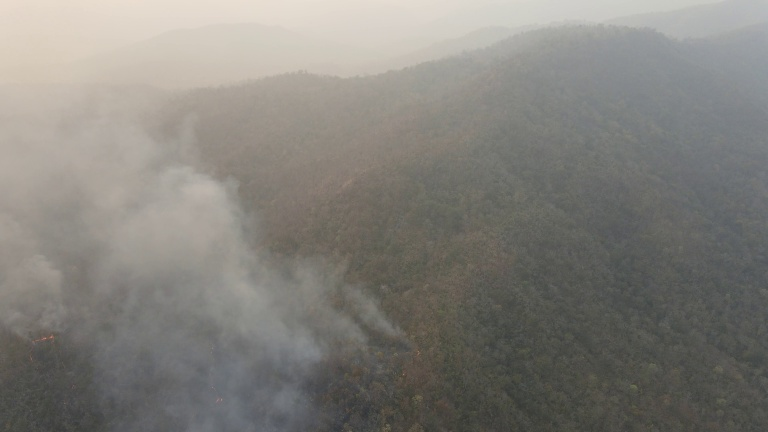fire: (23, 325, 57, 367), (398, 336, 421, 393)
smoke: (1, 62, 433, 432)
